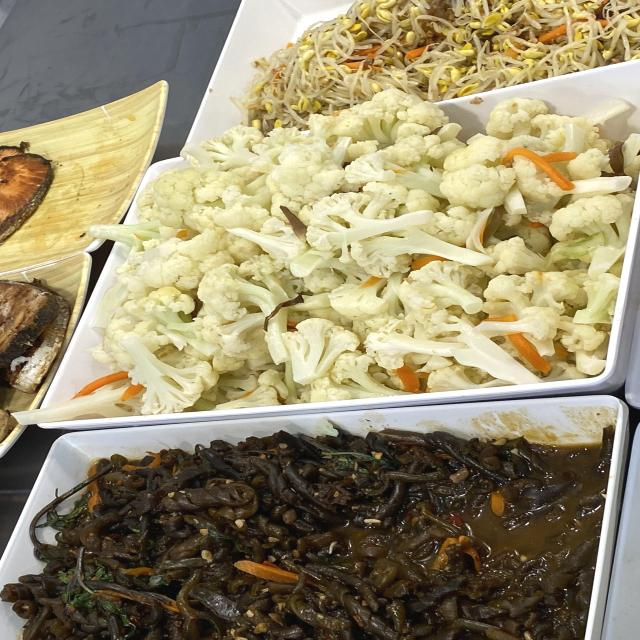cauliflower: (156, 178, 525, 352)
